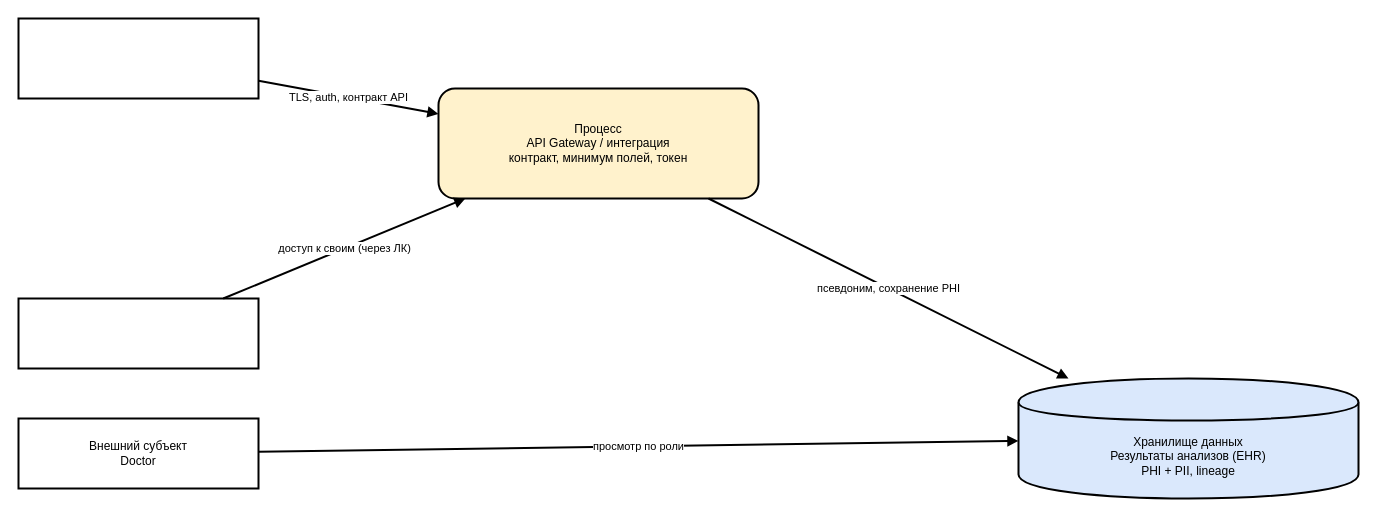
Some shapes in this 1376 by 516 pixel diagram are drawn without their labels. The shapes that lost their labels are listed below. From the top down, each one's box as (x1, y1, x2, y2) in pixels, then its label:
(17, 17, 259, 99): Внешний субъект Laboratory (источник результатов)
(17, 297, 259, 369): Внешний субъект Patient
